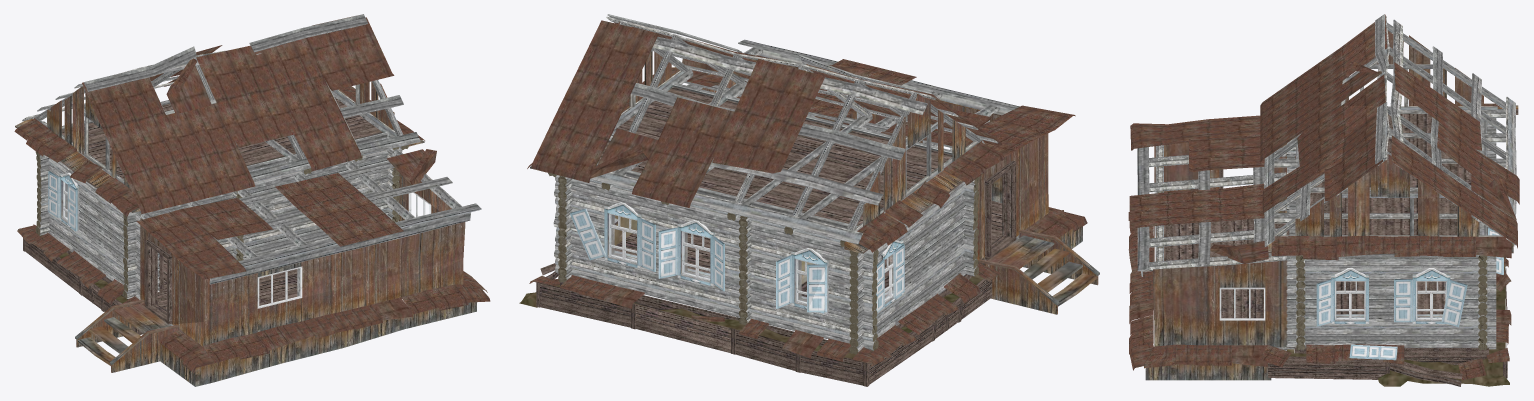
File: House.glb
3 views of the same model, side by side, from view 1: azimuth 30°, elevation 25°; view 2: azimuth 150°, elevation 25°; view 3: azimuth 270°, elevation 25° (orthographic). The views are drawn at different scales.
Visible parts, largest first — view 1: Plane_0; view 2: Plane_0; view 3: Plane_0.
Part boxes in pixels (box(x1,y1,x2,y2)): Plane_0: box(14, 14, 490, 386); Plane_0: box(519, 14, 1099, 386); Plane_0: box(1128, 14, 1519, 386).
Bounding box in the file's own units: 27.88 × 16.66 × 25.14.
1 material, 1 textured.
